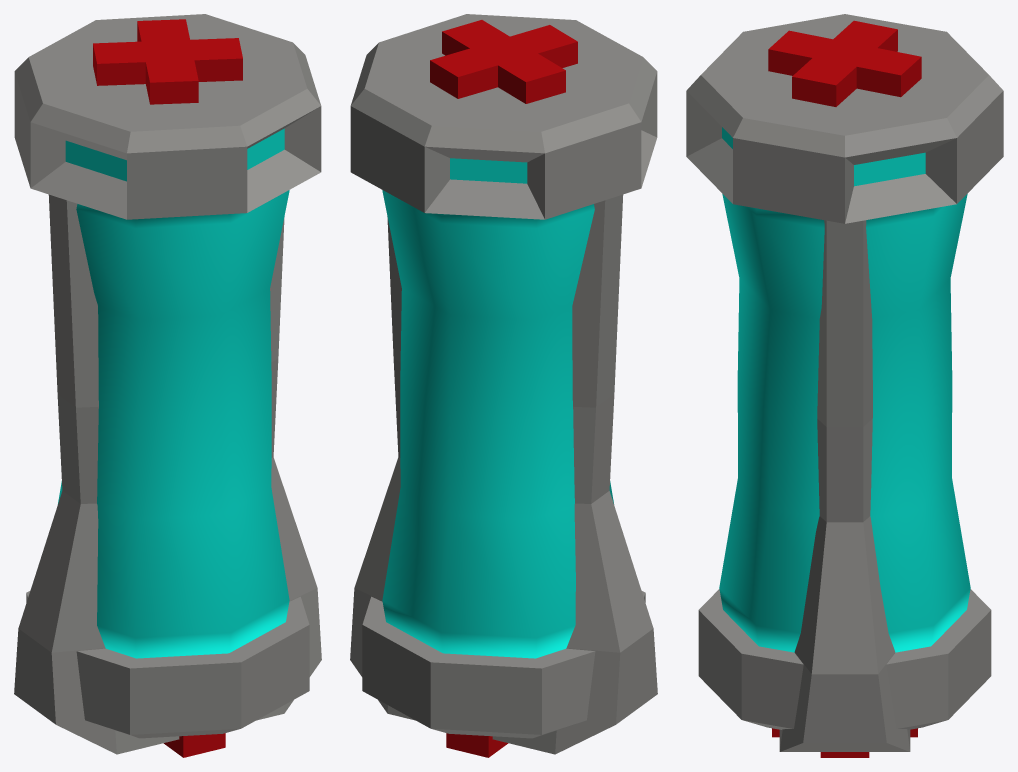
The model's file is Item_Health_Capsule.fbx.
The picture shows the model from 3 angles, left to right: view 1: azimuth 30°, elevation 25°; view 2: azimuth 150°, elevation 25°; view 3: azimuth 270°, elevation 25°; orthographic projection.
Parts seen in each view (by area): view 1: Item Health Capsule; view 2: Item Health Capsule; view 3: Item Health Capsule.
Part boxes in pixels (x1=…): Item Health Capsule: x1=14, y1=14, x2=321, y2=757; Item Health Capsule: x1=350, y1=14, x2=657, y2=757; Item Health Capsule: x1=686, y1=14, x2=1003, y2=757.
Size of the model in its own units: 226 by 530 by 226.
